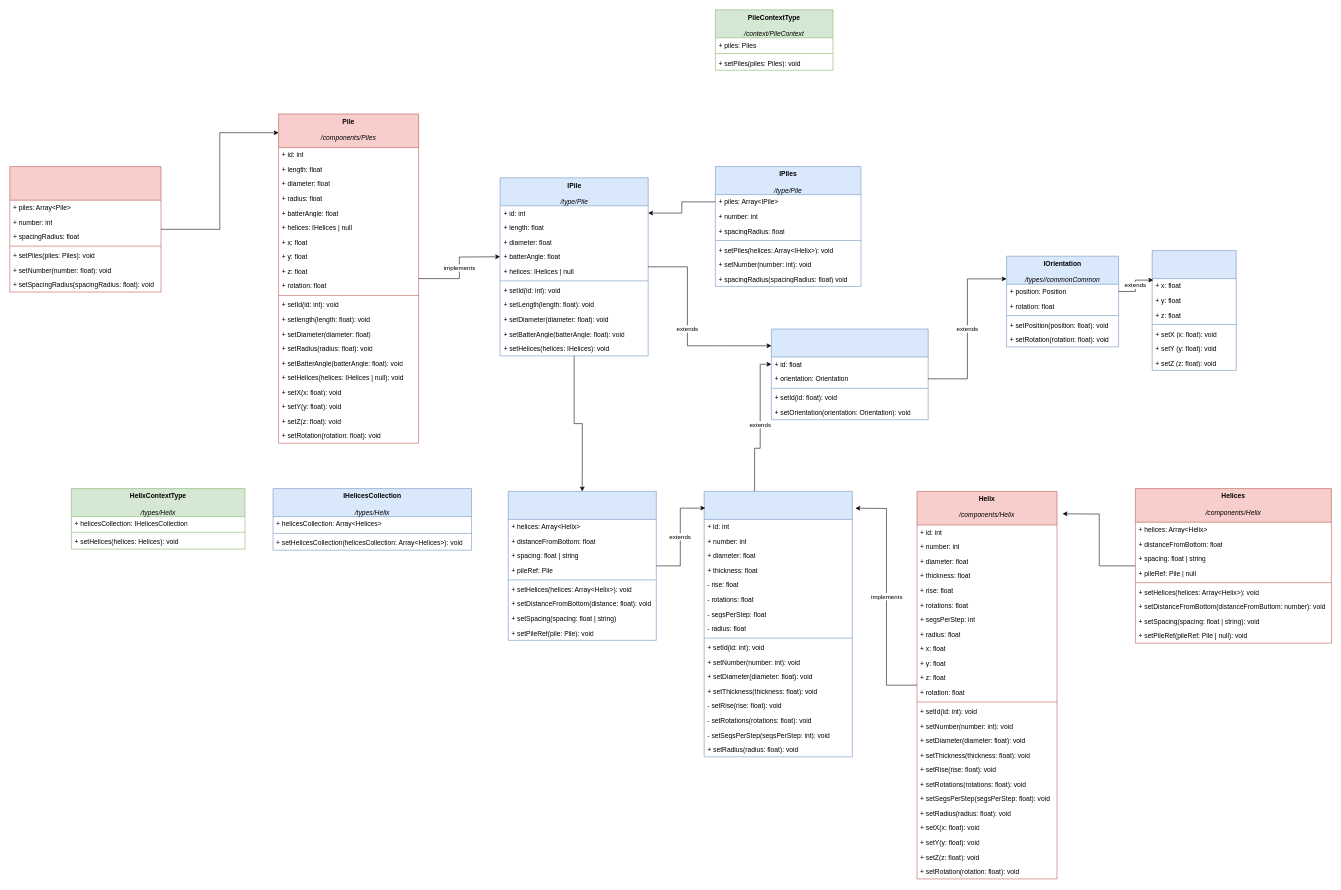
This 1341x890 diagram has some shape labels left out. The box of each missing label's shape, as (x1, y1, x2, y2) in pixels:
ICommon /types/common// Common: (771, 328, 928, 420)
IHelices /types/Helix: (508, 491, 656, 640)
IHelix /types/Helix: (704, 491, 852, 757)
IPosition /types/common/Common: (1152, 250, 1236, 370)
Piles /components/Piles: (9, 166, 161, 292)
